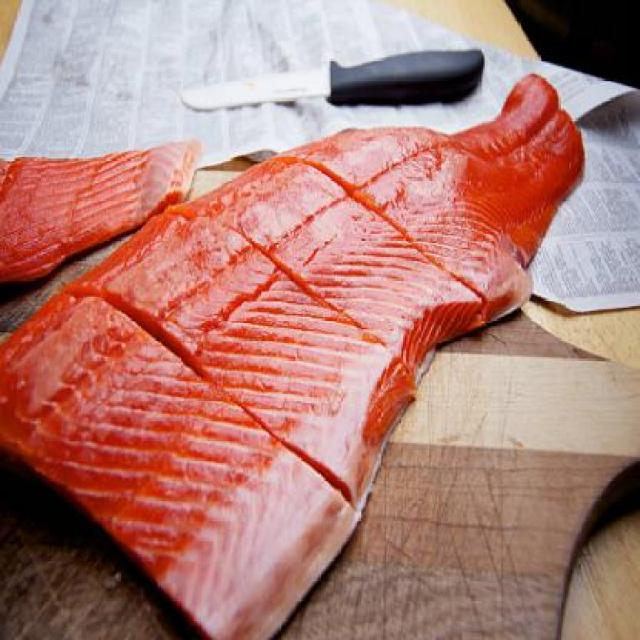salmon: (1, 67, 626, 640), (1, 126, 214, 297)
